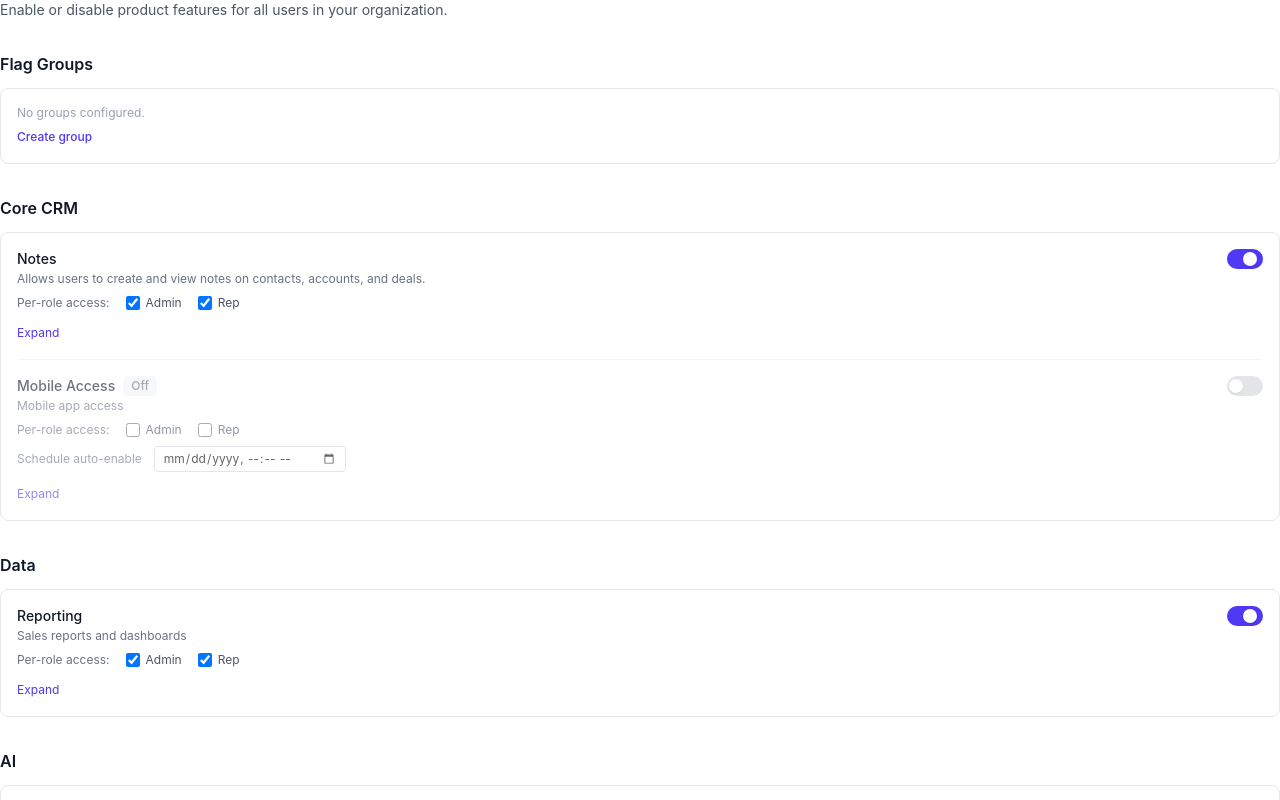
FeatureFlagsSettings › shows confirmation dialog when toggle is clicked
Click the switch with test id "feature-flag-toggle-notes".
click(1245, 259)  # box [1227,249,1263,269]
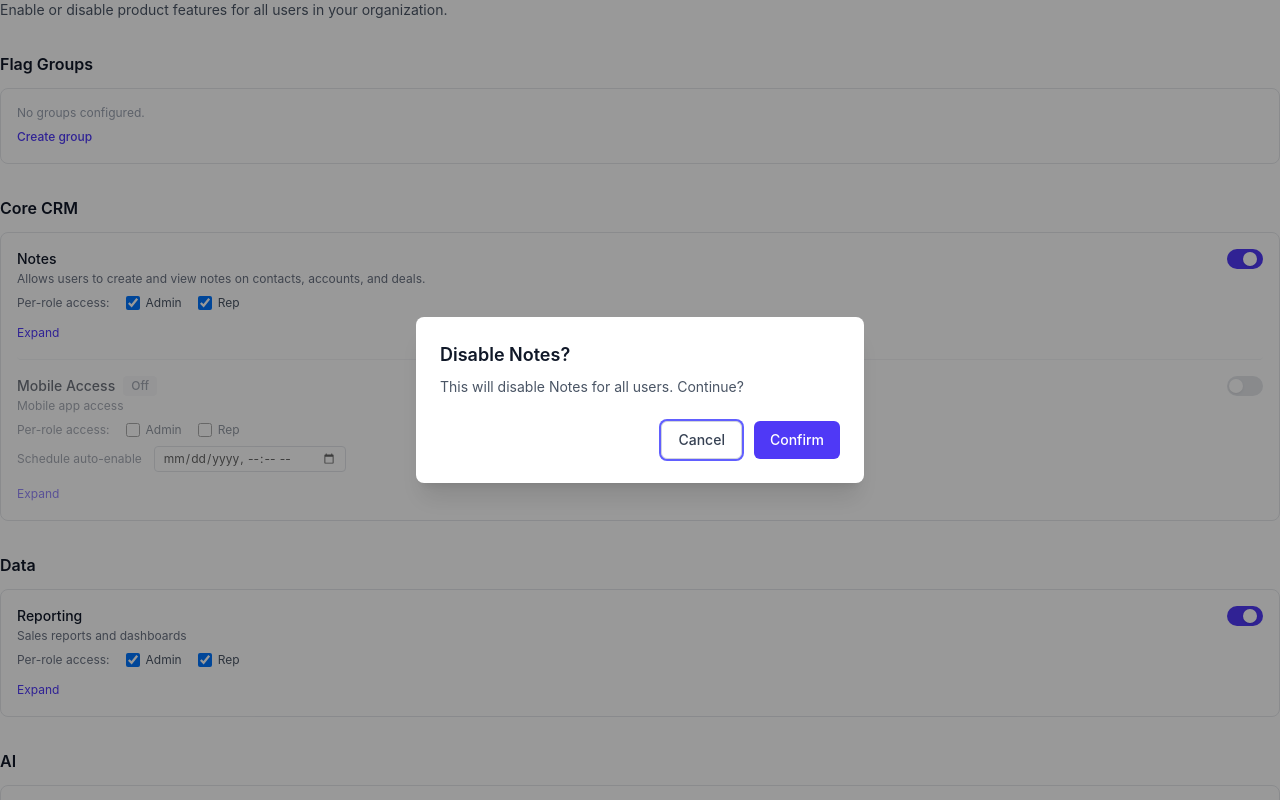
Now the dialog with test id "feature-flag-confirm-dialog" is shown
